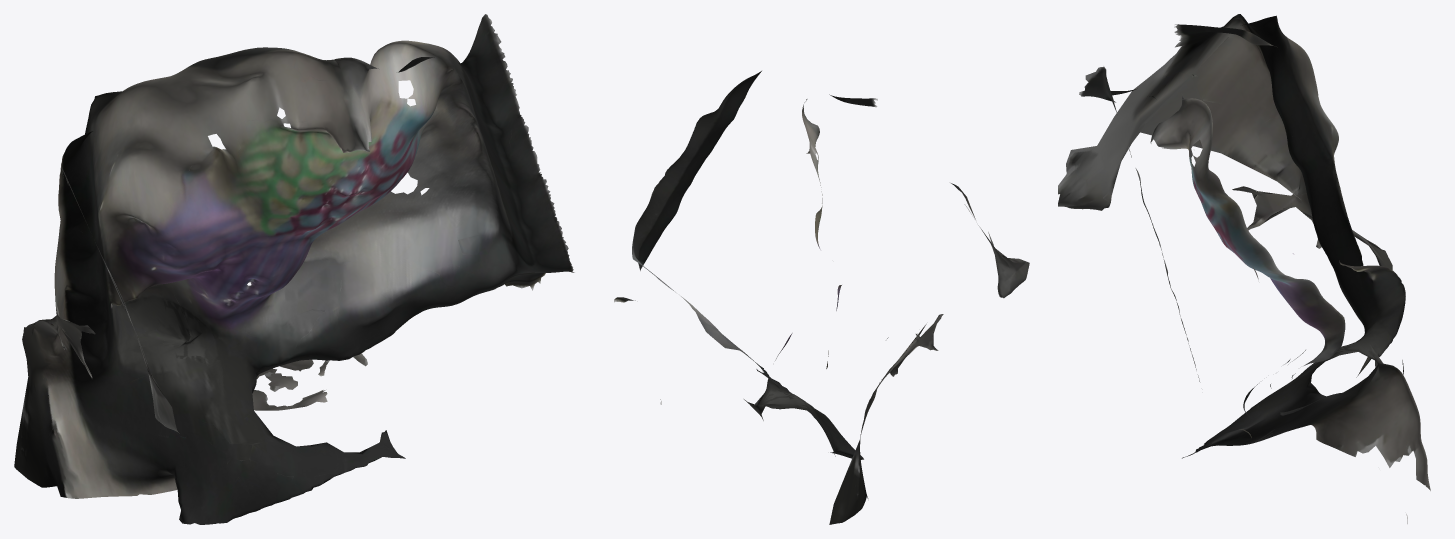
The picture shows the model from 3 angles, left to right: view 1: azimuth 30°, elevation 25°; view 2: azimuth 150°, elevation 25°; view 3: azimuth 270°, elevation 25°; orthographic projection. The views are drawn at different scales.
Size of the model in its own units: 0.3585 by 0.3492 by 0.2682.
Materials: 1 (1 with a texture image).
